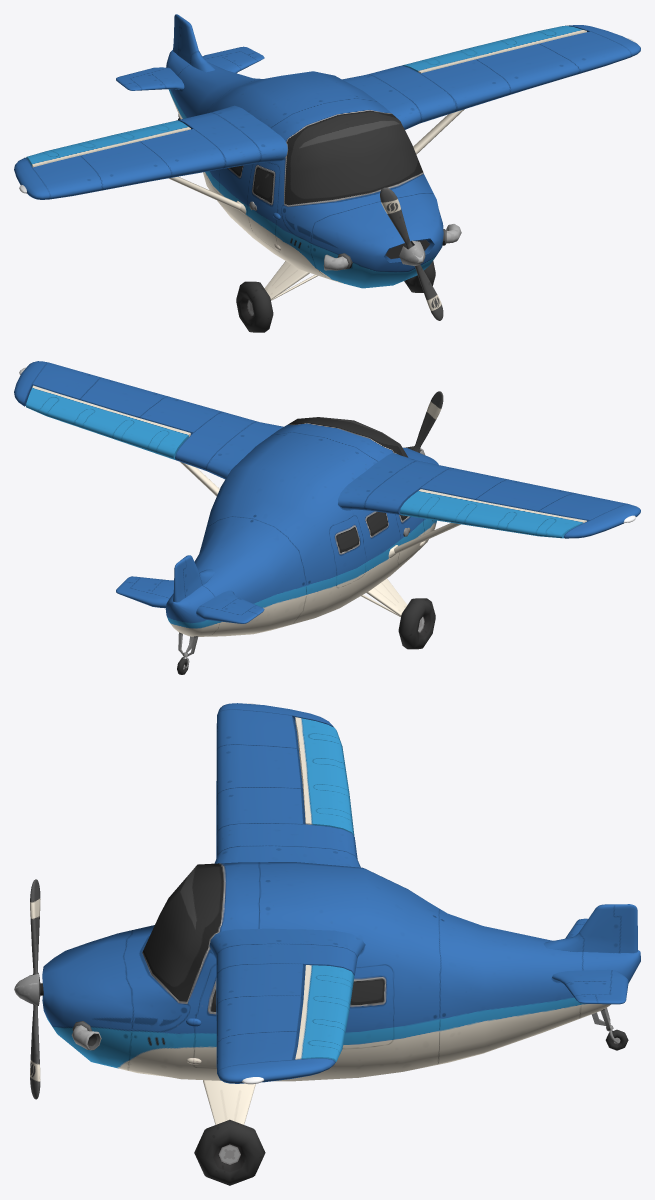
3 renders of one model, top to bottom at view 1: azimuth 30°, elevation 25°; view 2: azimuth 150°, elevation 25°; view 3: azimuth 270°, elevation 25°, orthographic. The views are drawn at different scales.
Visible parts, largest first — view 1: PlaneFrame, PlaneWingFlapLeft, PlaneWingFlapRight, PlaneWheelsFront, PlanePropeller; view 2: PlaneFrame, PlaneWingFlapLeft, PlaneWingFlapRight, PlaneWheelsFront, PlanePropeller; view 3: PlaneFrame, PlaneWingFlapRight, PlaneWingFlapLeft, PlaneWheelsFront, PlanePropeller.
Boxes of the visible parts, x1=… form: PlaneFrame: x1=14, y1=14, x2=640, y2=300; PlaneWingFlapLeft: x1=402, y1=25, x2=586, y2=73; PlaneWingFlapRight: x1=26, y1=120, x2=190, y2=167; PlaneWheelsFront: x1=236, y1=261, x2=435, y2=332; PlanePropeller: x1=380, y1=187, x2=443, y2=320; PlaneFrame: x1=14, y1=361, x2=640, y2=656; PlaneWingFlapLeft: x1=26, y1=385, x2=190, y2=459; PlaneWingFlapRight: x1=400, y1=489, x2=586, y2=538; PlaneWheelsFront: x1=398, y1=598, x2=435, y2=649; PlanePropeller: x1=404, y1=391, x2=443, y2=454; PlaneFrame: x1=42, y1=703, x2=640, y2=1124; PlaneWingFlapRight: x1=295, y1=717, x2=354, y2=835; PlaneWingFlapLeft: x1=295, y1=965, x2=354, y2=1061; PlaneWheelsFront: x1=194, y1=1119, x2=265, y2=1185; PlanePropeller: x1=14, y1=879, x2=43, y2=1099.
Size of the model in its own units: 6.02 by 1.88 by 4.21.
Materials: 1 (1 with a texture image).
